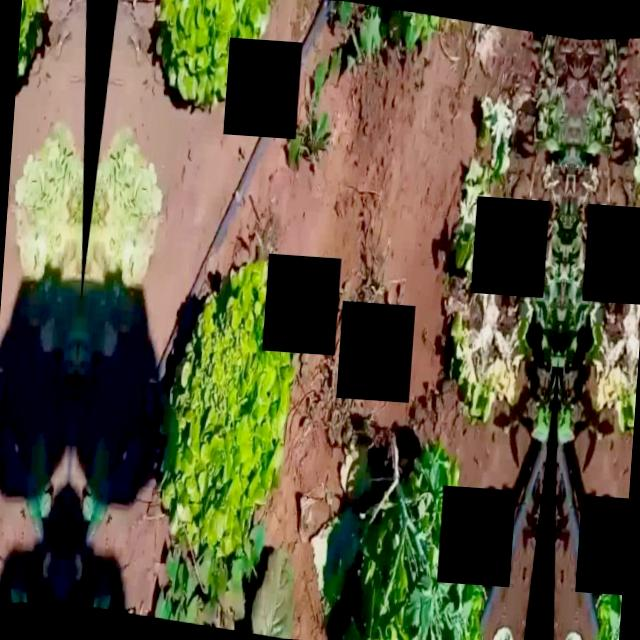healthy: (151, 243, 301, 560), (141, 0, 273, 115), (15, 0, 56, 99)
